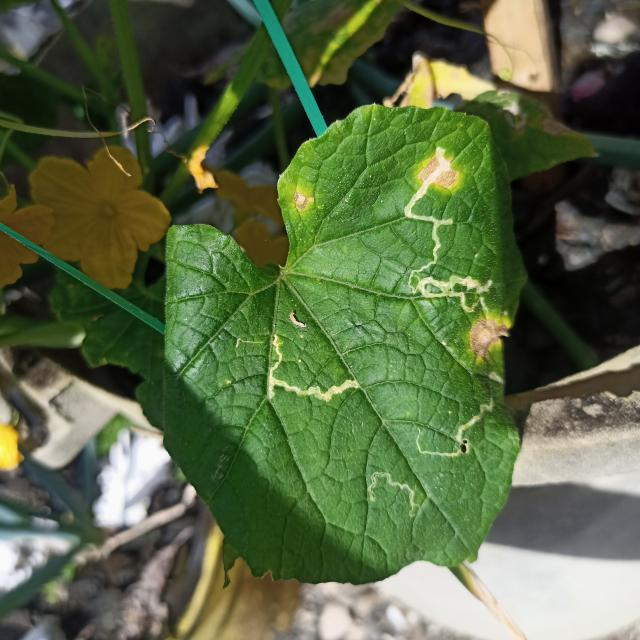disease_cucumber: (469, 311, 508, 362), (417, 154, 460, 189), (290, 189, 312, 216)
